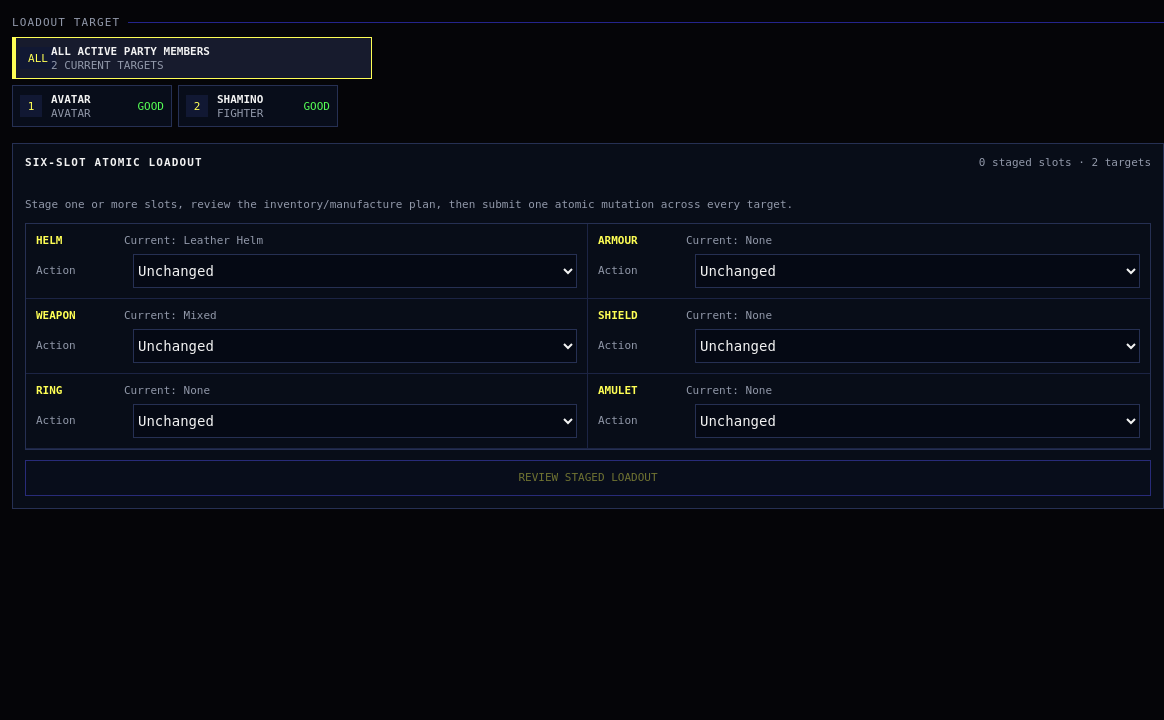
Scenario: EquipmentLoadouts › shows common and mixed all-party slots and enforces aggregate inventory visibility
Expected: the button "ALL All active party members 2 current targets" is shown, [12, 37, 372, 79]
Expected: the element showing "Helm Current: Leather Helm Action" is shown, [26, 224, 588, 299]
Select "Inventory" in the dropdown with id "loadout-weapon-action": {"x": 355, "y": 346} [133, 329, 577, 363]
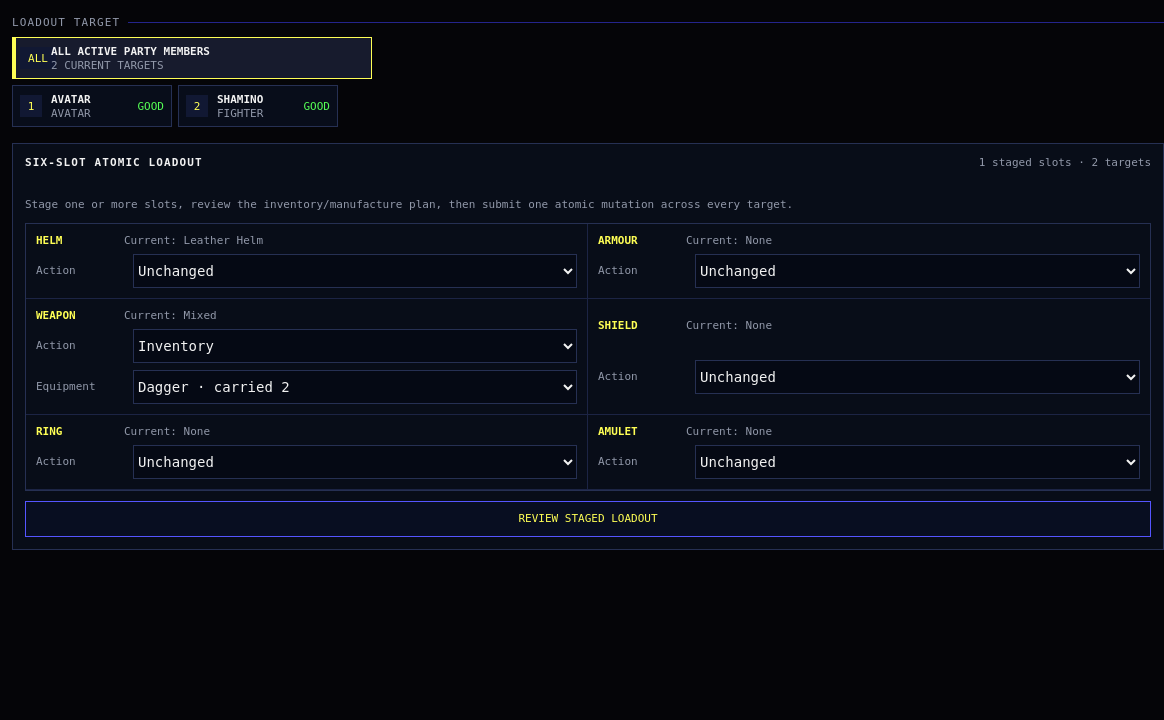
Click the button "REVIEW STAGED LOADOUT": {"x": 588, "y": 519} [25, 501, 1151, 537]
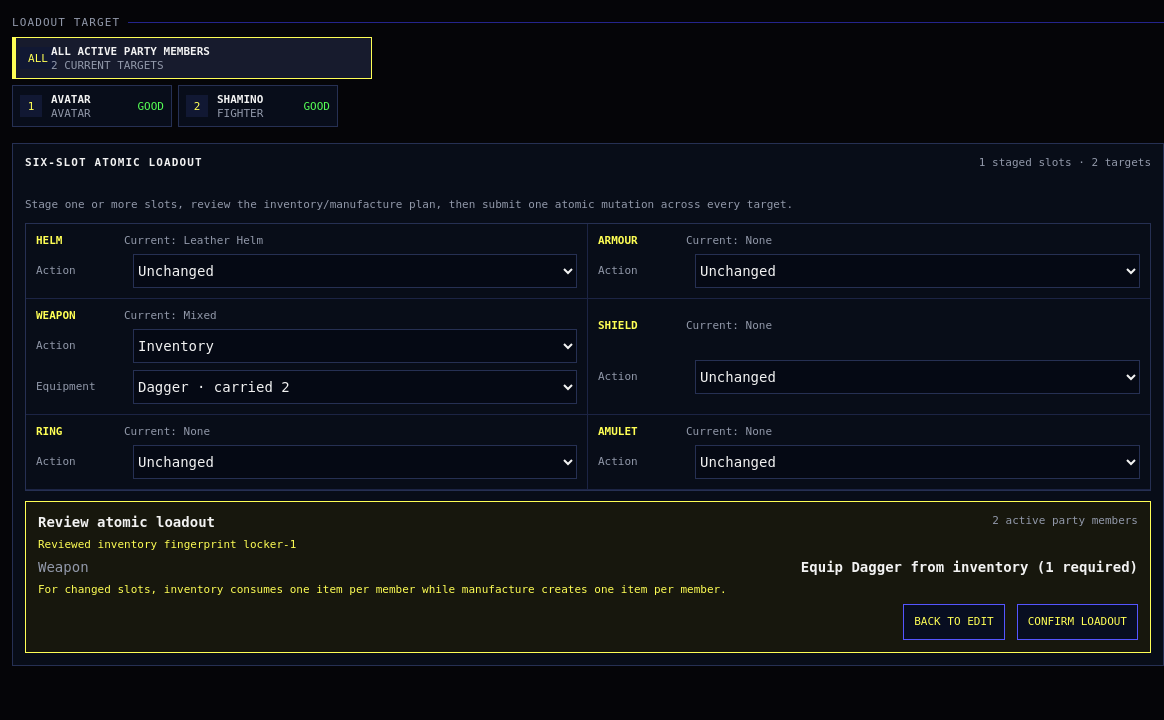
Expected: the element that starts with "Review atomic loadout" shows "2 active party members", [992, 514, 1138, 527]
Expected: the element that starts with "Review atomic loadout" shows "(1 required)", [801, 559, 1138, 575]
Expected: the element that starts with "Review atomic loadout" shows "manufacture creates one item per member", [38, 583, 727, 596]
